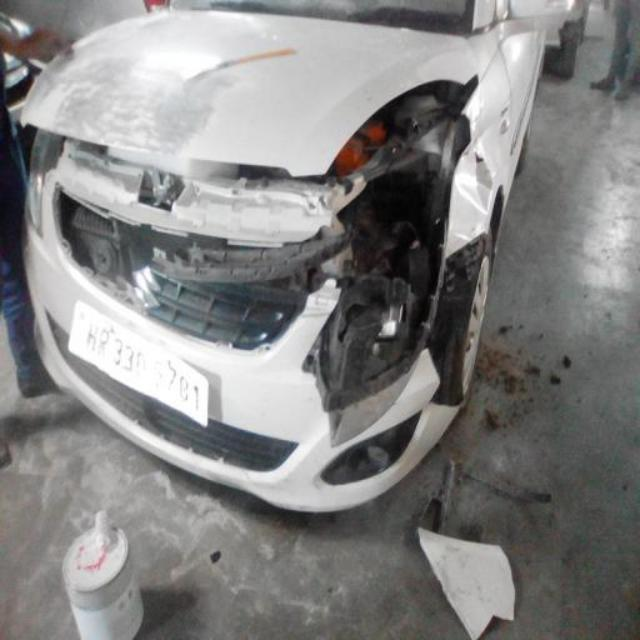dent: (52, 51, 236, 153), (448, 108, 496, 246)
dislocated part: (44, 169, 340, 358)
no part: (302, 189, 455, 450)
